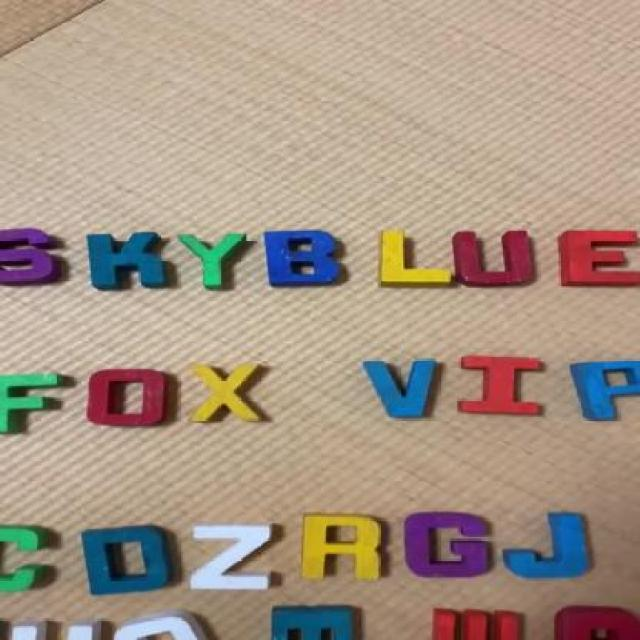B: (261, 230, 347, 285)
D: (84, 524, 182, 596)
E: (562, 230, 640, 288)
F: (0, 374, 60, 434)
G: (402, 510, 496, 576)
I: (455, 356, 547, 415)
J: (512, 512, 598, 576)
K: (86, 233, 168, 289)
L: (375, 228, 453, 286)
O: (87, 368, 171, 426)
P: (576, 358, 639, 418)
R: (296, 512, 387, 579)
U: (452, 232, 540, 286)
V: (367, 359, 438, 415)
X: (188, 364, 266, 422)
Y: (186, 235, 245, 290)
Z: (193, 526, 278, 589)
